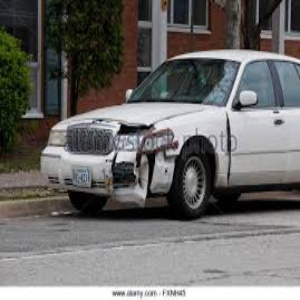bumper: (92, 155, 173, 208)
